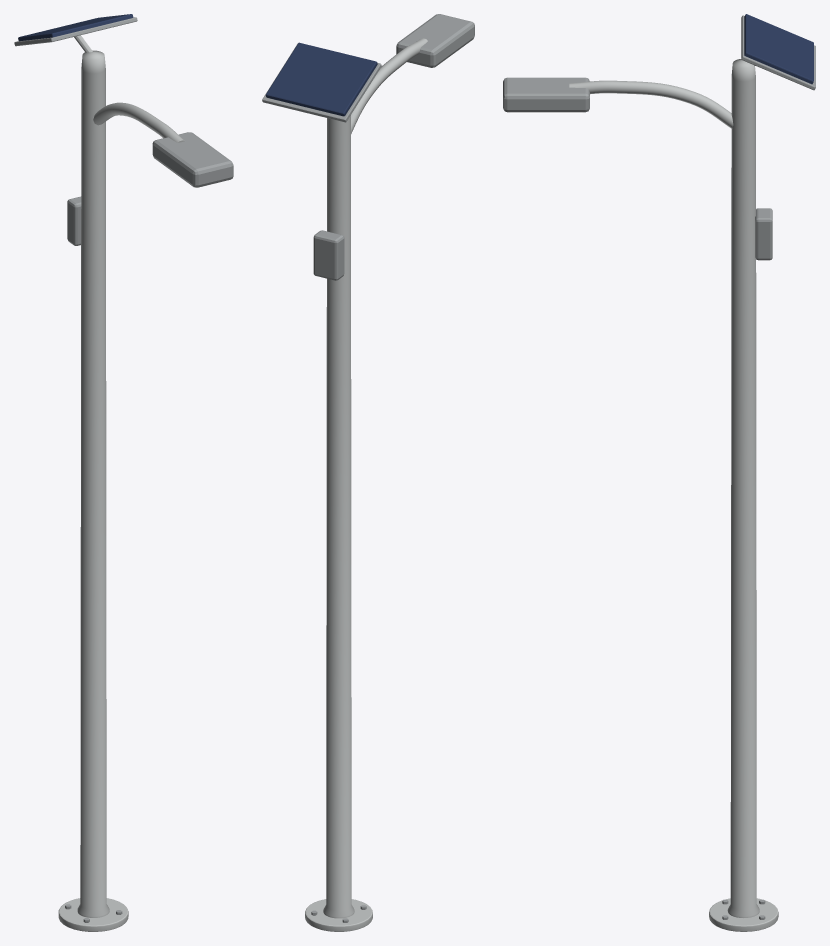
The model's file is city-pole-mounted-security-light.glb.
3 views of the same model, side by side, from view 1: azimuth 30°, elevation 25°; view 2: azimuth 150°, elevation 25°; view 3: azimuth 270°, elevation 25° (orthographic). The views are drawn at different scales.
Visible parts, largest first — view 1: Assembly | Galvanized lighting pole, Assembly | Grey luminaire housing, Assembly | Small solar panel cell; view 2: Assembly | Galvanized lighting pole, Assembly | Small solar panel cell, Assembly | Grey luminaire housing; view 3: Assembly | Galvanized lighting pole, Assembly | Grey luminaire housing, Assembly | Small solar panel cell.
Part boxes in pixels (bbox=[...]): Assembly | Galvanized lighting pole: bbox=[58, 35, 184, 931]; Assembly | Grey luminaire housing: bbox=[14, 17, 233, 922]; Assembly | Small solar panel cell: bbox=[18, 14, 133, 41]; Assembly | Galvanized lighting pole: bbox=[305, 38, 427, 931]; Assembly | Small solar panel cell: bbox=[265, 42, 377, 116]; Assembly | Grey luminaire housing: bbox=[262, 14, 474, 922]; Assembly | Galvanized lighting pole: bbox=[569, 59, 778, 931]; Assembly | Grey luminaire housing: bbox=[503, 15, 815, 919]; Assembly | Small solar panel cell: bbox=[744, 14, 813, 84].
Bounding box in the file's own units: 0.34 × 3.36 × 1.08.
